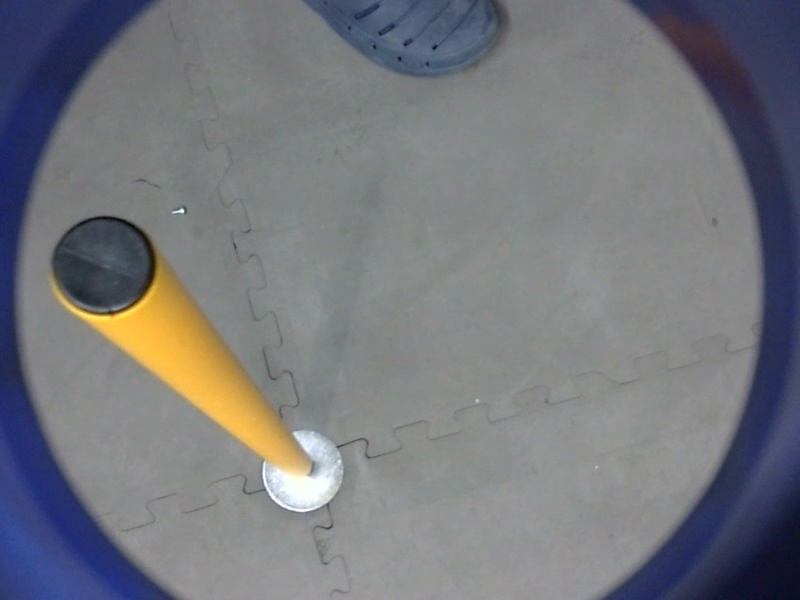tip: (42, 209, 164, 329)
